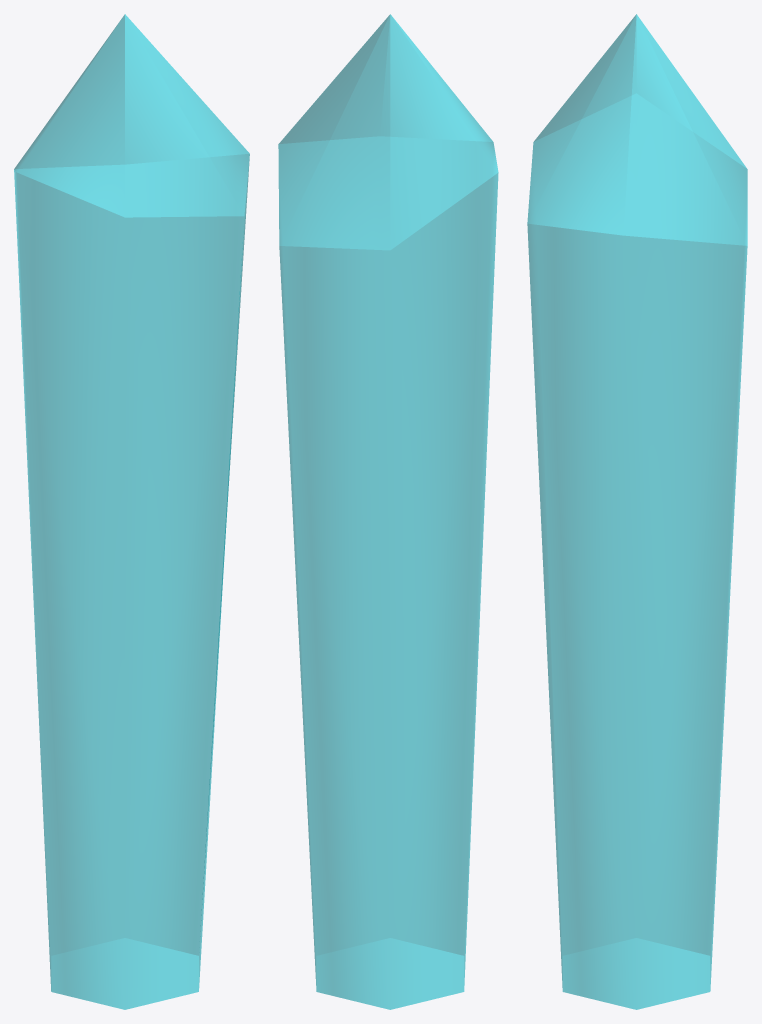
The model's file is cystal02.FBX.
3 renders of one model, left to right at view 1: azimuth 30°, elevation 25°; view 2: azimuth 150°, elevation 25°; view 3: azimuth 270°, elevation 25°, orthographic.
Parts seen in each view (by area): view 1: crystal_02; view 2: crystal_02; view 3: crystal_02.
Boxes of the visible parts, <box> form: crystal_02: <box>14,14,249,1009</box>; crystal_02: <box>278,14,498,1009</box>; crystal_02: <box>527,14,747,1009</box>.
Bounding box in the file's own units: 81.62 × 68.7 × 330.
